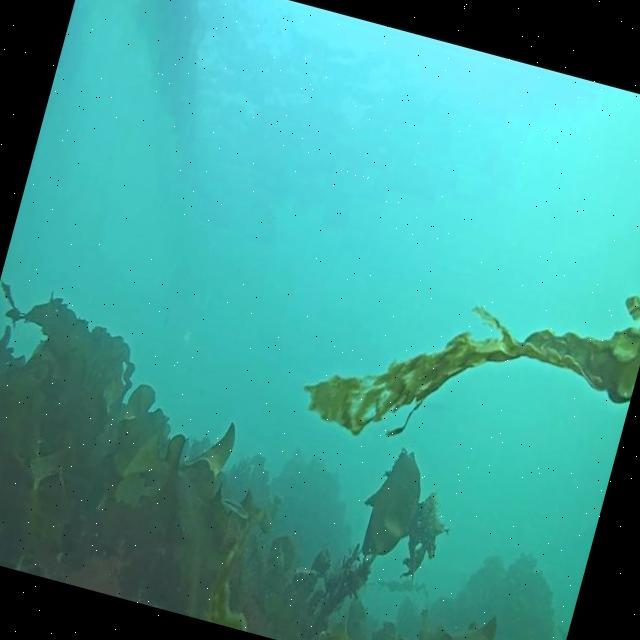fish: (215, 492, 253, 522)
